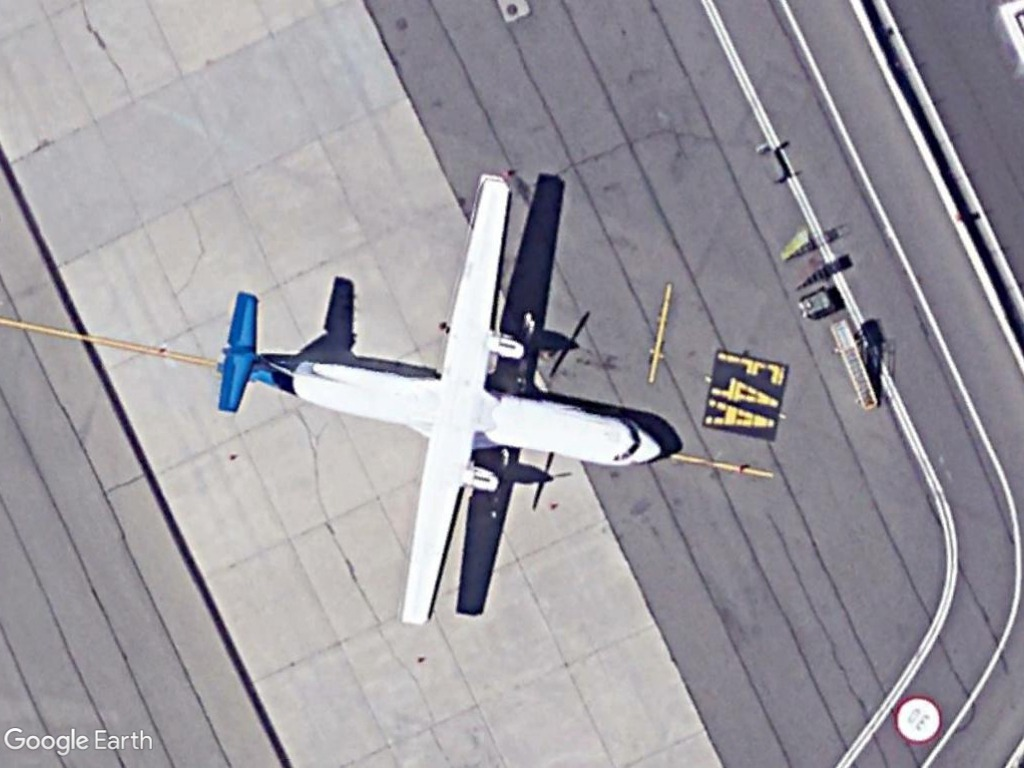propeller: (208, 169, 665, 628)
